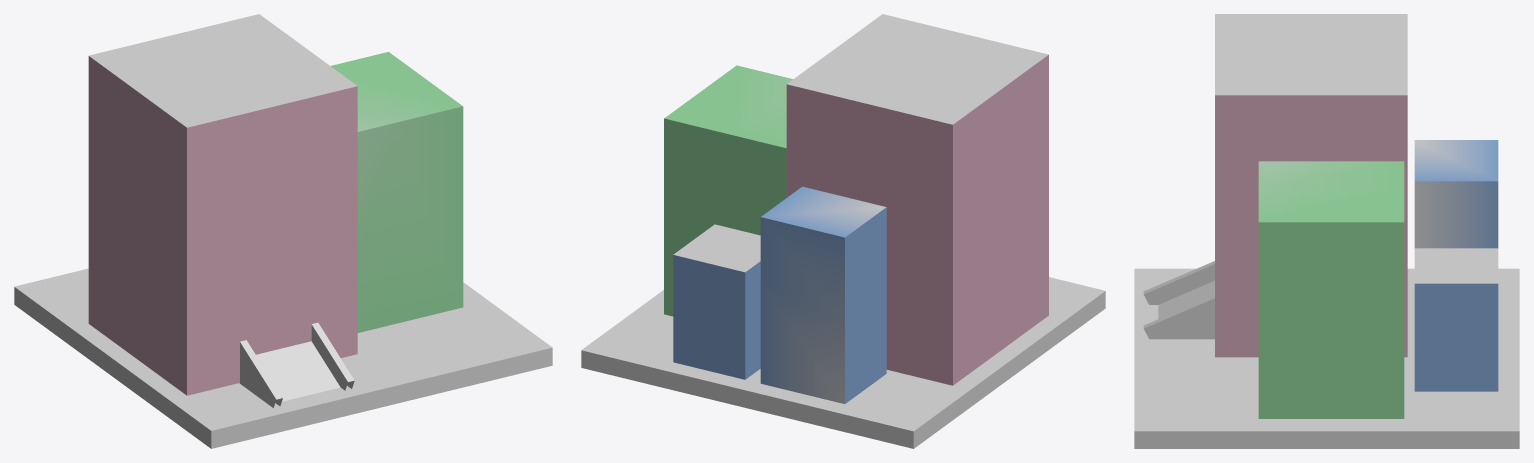
The model's file is building1.fbx.
3 renders of one model, left to right at view 1: azimuth 30°, elevation 25°; view 2: azimuth 150°, elevation 25°; view 3: azimuth 270°, elevation 25°, orthographic. The views are drawn at different scales.
Parts seen in each view (by area): view 1: Cube, Cube.002, Cube.001; view 2: Cube, Cube.002, Cube.003, Cube.001; view 3: Cube, Cube.001, Cube.002, Cube.003.
Part boxes in pixels (x1,y1,x2,y2): Cube: (14, 96, 552, 448); Cube.002: (88, 14, 357, 165); Cube.001: (331, 52, 463, 258); Cube: (581, 91, 1105, 448); Cube.002: (786, 14, 1048, 186); Cube.003: (760, 186, 886, 323); Cube.001: (664, 65, 792, 266); Cube: (1134, 129, 1519, 448); Cube.001: (1258, 189, 1404, 371); Cube.002: (1215, 14, 1407, 166); Cube.003: (1414, 140, 1498, 248).
Size of the model in its own units: 400 by 321 by 400.
